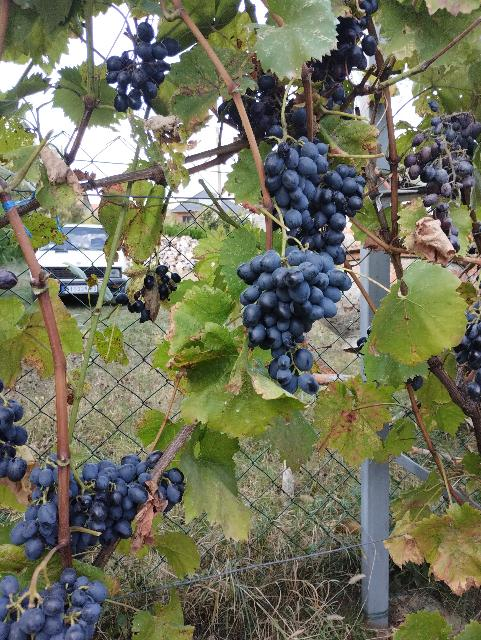grapes: (238, 246, 350, 394), (69, 450, 162, 555), (0, 568, 109, 640), (106, 21, 181, 112), (264, 141, 329, 240), (10, 454, 59, 561)
